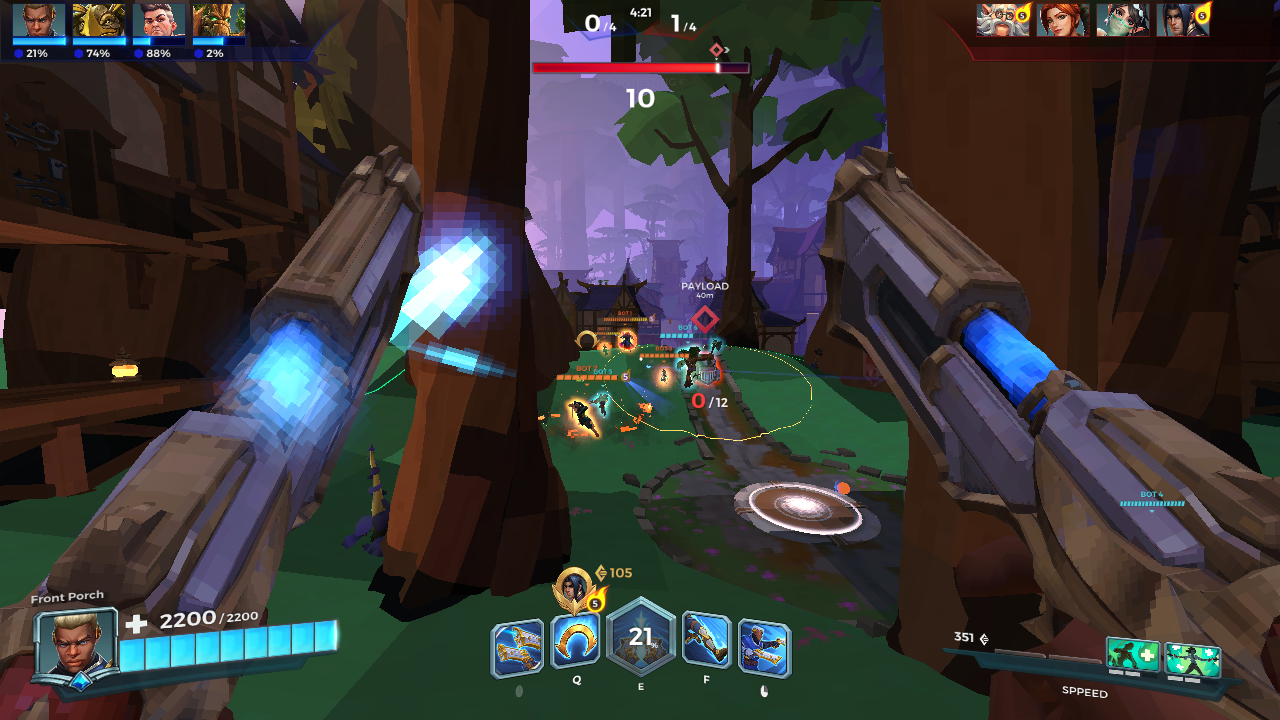model: (566, 397, 600, 444), (619, 328, 637, 351), (658, 366, 668, 387), (600, 344, 609, 358)
